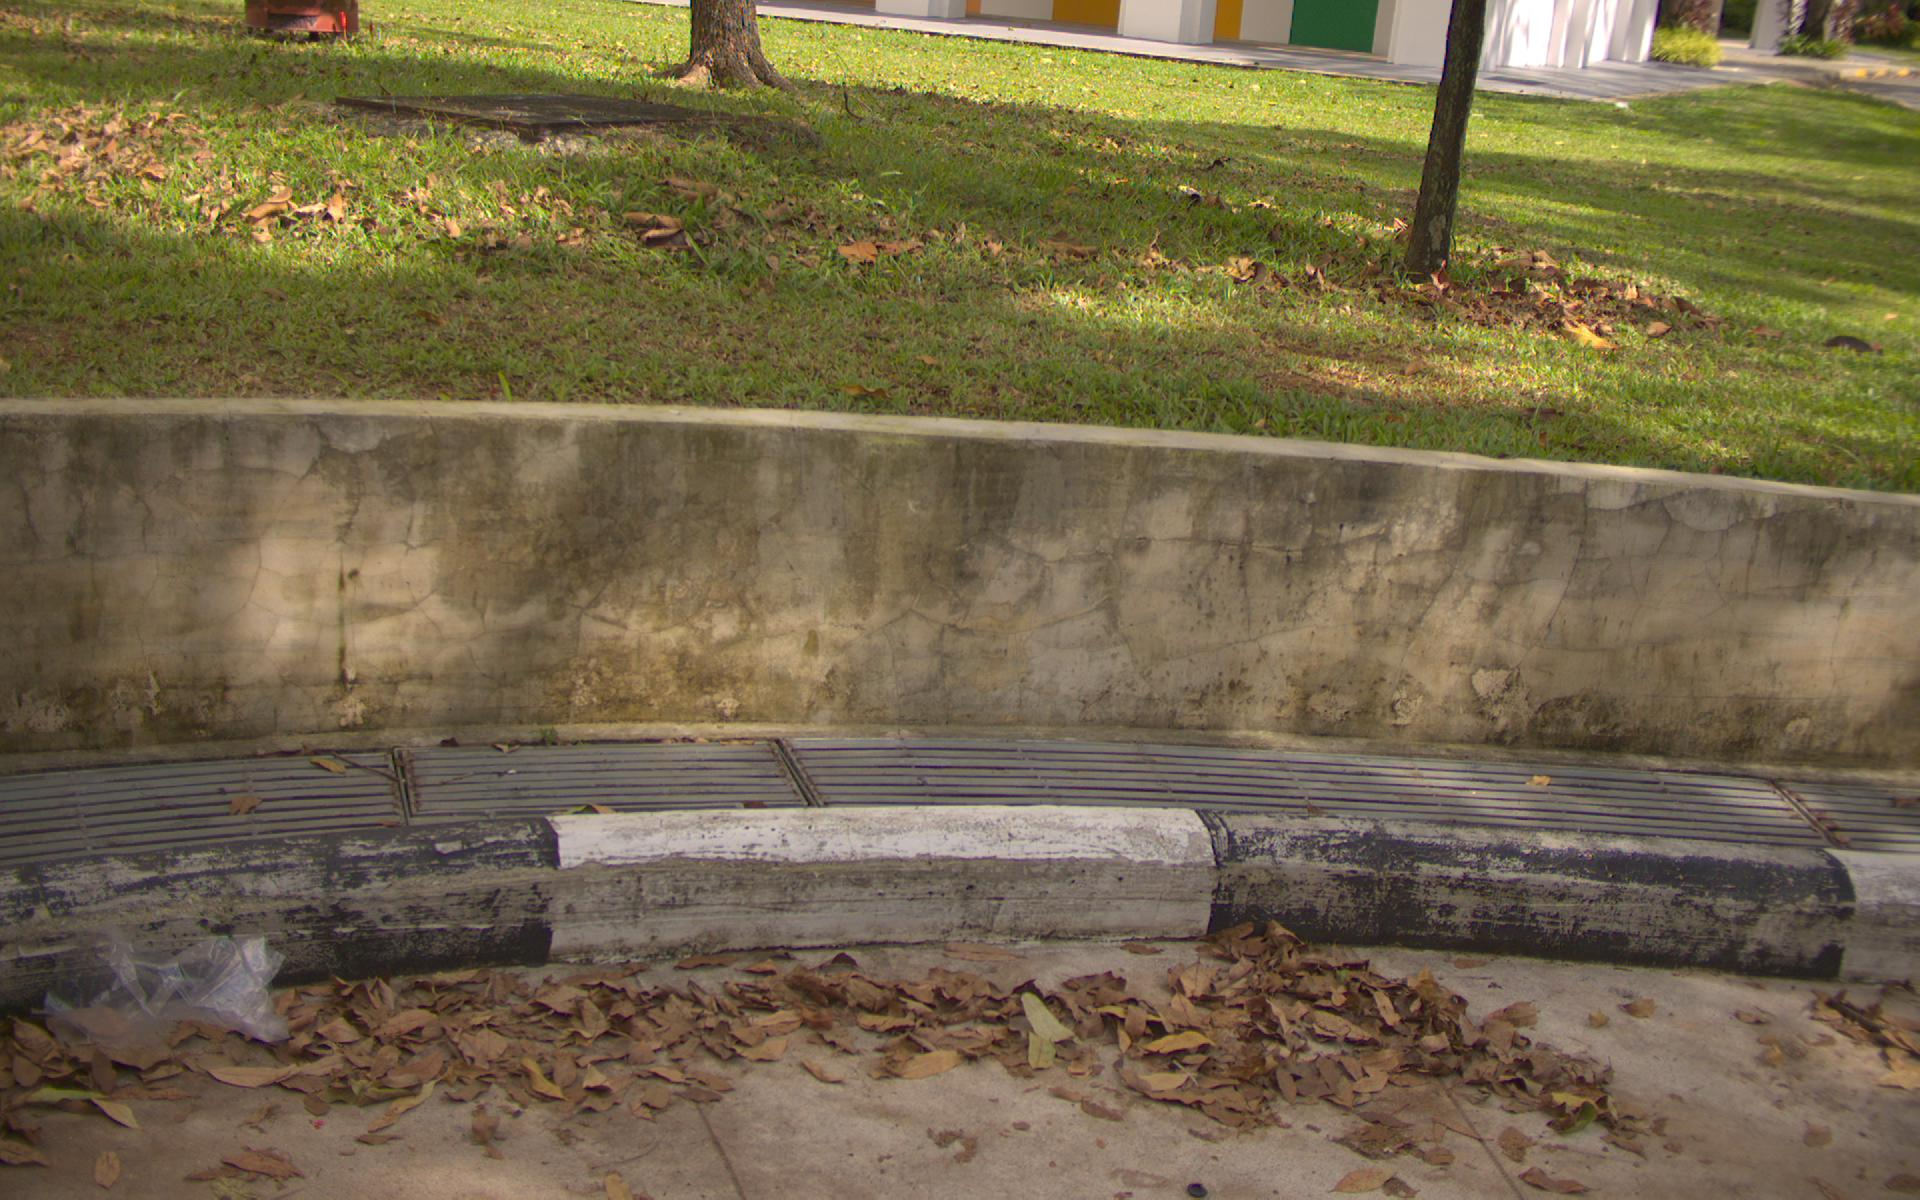curb_grill_low: (6, 733, 1908, 854)
road_curb_medium: (15, 944, 1913, 1188)
road_turf_low: (14, 44, 1898, 465)
